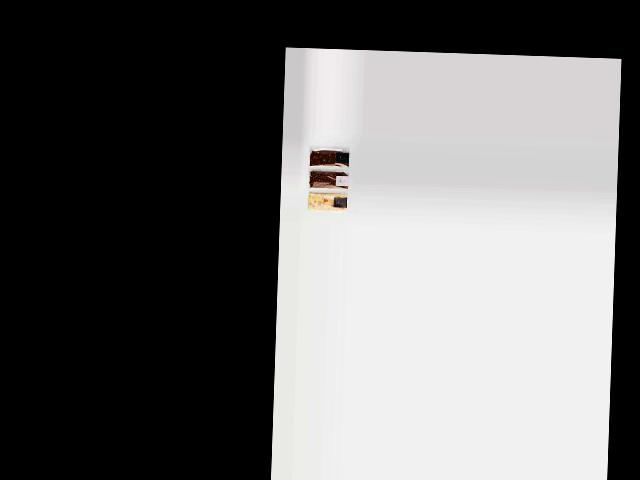chocolate: (307, 146, 349, 166)
